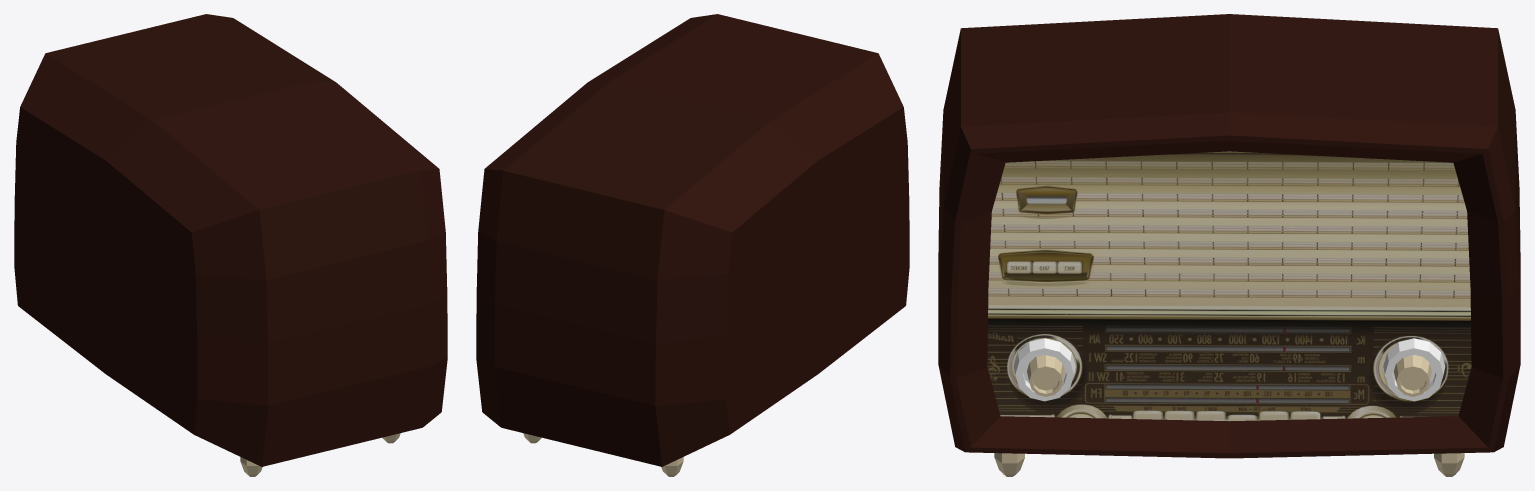
File: Radio.fbx
3 views of the same model, side by side, from view 1: azimuth 30°, elevation 25°; view 2: azimuth 150°, elevation 25°; view 3: azimuth 270°, elevation 25° (orthographic). The views are drawn at different scales.
Parts seen in each view (by area): view 1: Body; view 2: Body; view 3: Body, Buttons, Legs 1.
Boxes of the visible parts, left/top/right/bottom form: Body: left=14, top=14, right=447, bottom=466; Body: left=476, top=14, right=909, bottom=466; Body: left=938, top=14, right=1520, bottom=458; Buttons: left=1013, top=338, right=1445, bottom=401; Legs 1: left=994, top=453, right=1464, bottom=476.
Size of the model in its own units: 222 by 266 by 380.
